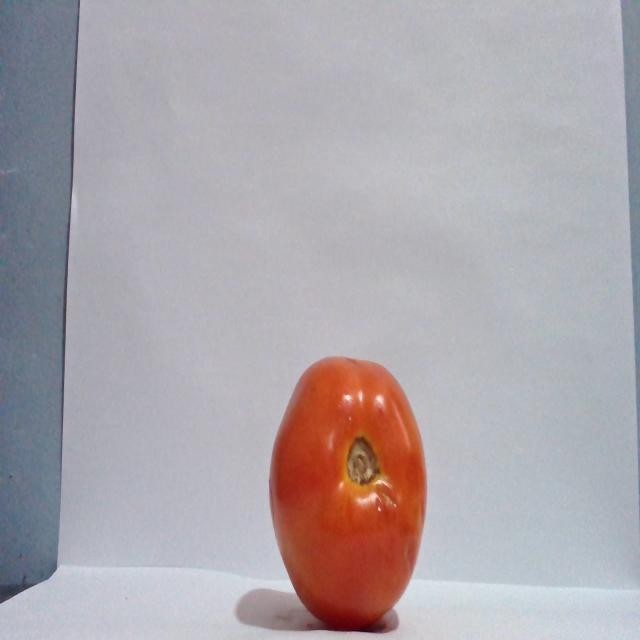Red: (267, 354, 428, 629)
